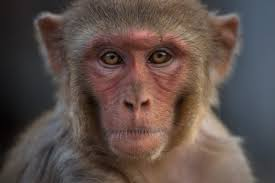monkey: (10, 0, 265, 178)
